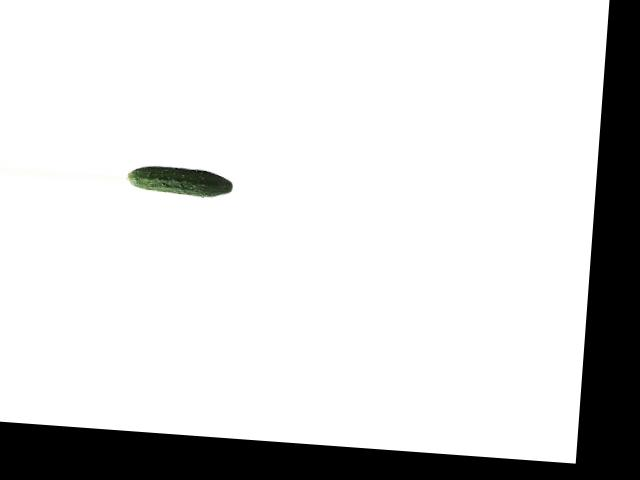cucumber: (126, 164, 234, 198)
